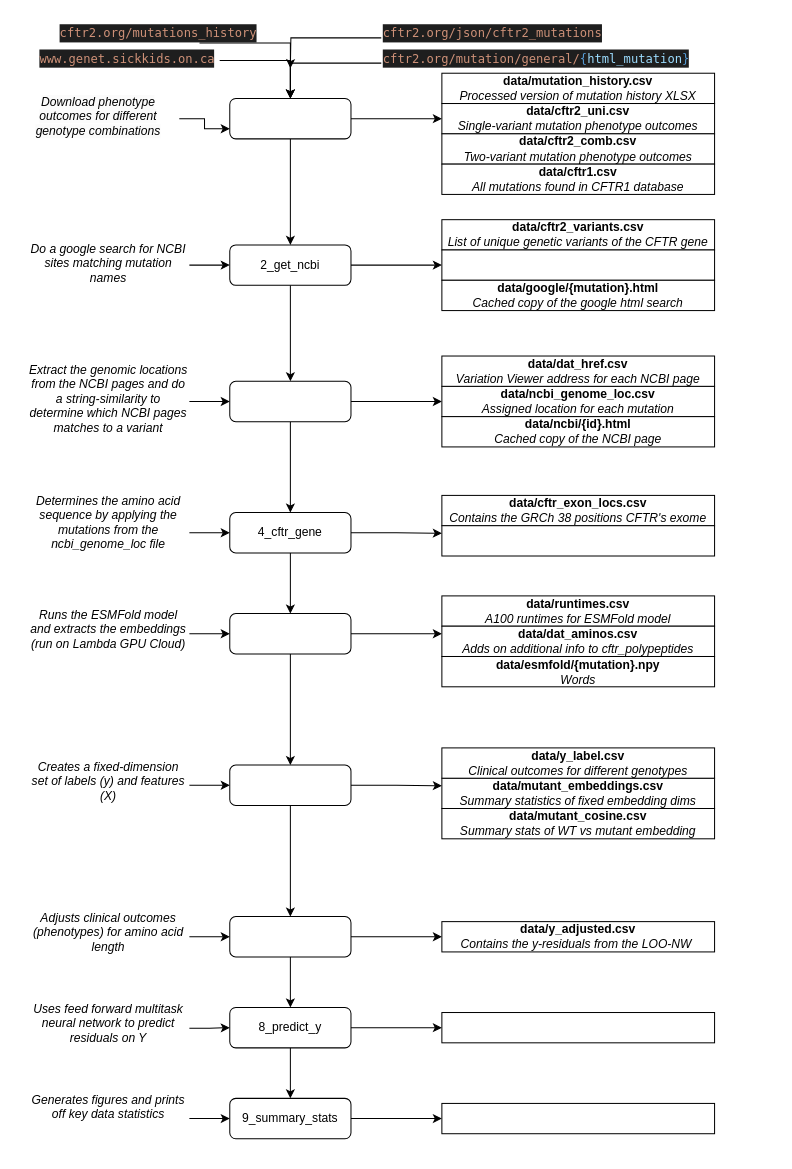
Some shapes in this 792 by 1169 pixel diagram are drawn without their labels. The centre of each missing label's shape, as x and y in pixels:
"1_scrape_cftr2" belongs at [290,118].
"3_scrape_ncbi" belongs at [290,401].
"5_esm_fold" belongs at [290,633].
"6_process_Xy" belongs at [290,784].
"7_debias_y" belongs at [290,936].
"data/ ncbi_links.csv List of NCBI links for each variant" belongs at [578,264].
"data/cftr_polypeptides .csv Contains amino acid sequence for each variant" belongs at [578,540].
"data/pred_res_y .csv Contains the predicted and actual residuals" belongs at [578,1027].
"figures/ *.png Many figures" belongs at [578,1118].
